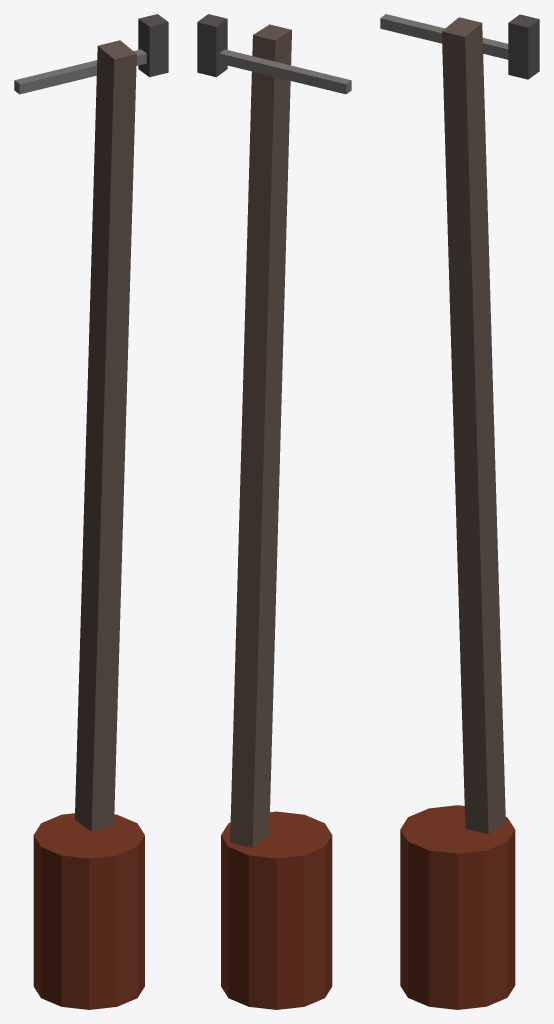
The model's file is B_pole_b.glb.
The picture shows the model from 3 angles, left to right: view 1: azimuth 30°, elevation 25°; view 2: azimuth 150°, elevation 25°; view 3: azimuth 330°, elevation 25°; orthographic projection. The views are drawn at different scales.
Visible parts, largest first — view 1: Cube, Cylinder, Cube.002, Cube.001; view 2: Cube, Cylinder, Cube.001, Cube.002; view 3: Cube, Cylinder, Cube.002, Cube.001.
Boxes of the visible parts, box(x1,y1,x2,y2) form: Cube: box(75, 40, 136, 831); Cylinder: box(33, 813, 144, 1009); Cube.002: box(138, 14, 168, 77); Cube.001: box(14, 49, 146, 94); Cube: box(230, 24, 291, 847); Cylinder: box(221, 811, 332, 1009); Cube.001: box(219, 49, 351, 94); Cube.002: box(197, 14, 227, 77); Cube: box(442, 17, 505, 834); Cylinder: box(400, 805, 515, 1009); Cube.002: box(508, 14, 539, 79); Cube.001: box(380, 14, 508, 59).
Size of the model in its own units: 0.91 by 5.65 by 0.6.
